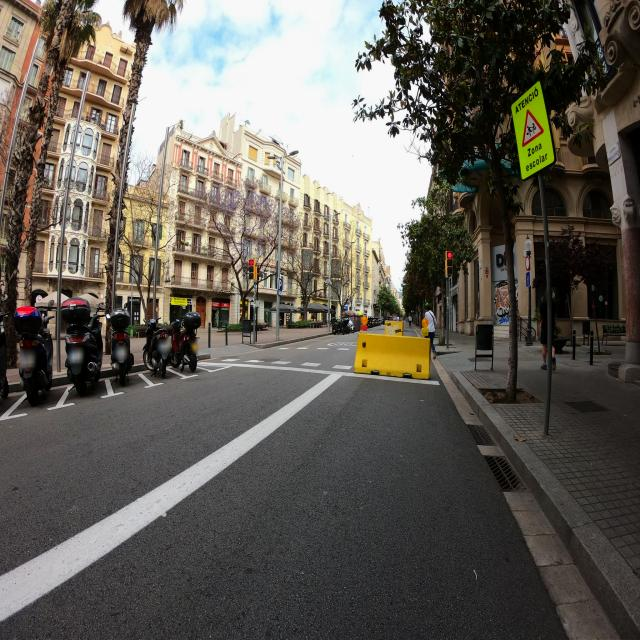bike: (63, 306, 106, 398), (14, 312, 54, 407), (150, 318, 198, 377), (110, 312, 132, 388), (332, 318, 350, 335), (366, 316, 377, 328)
